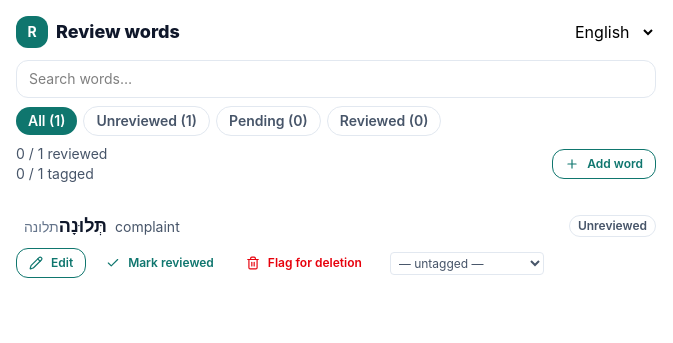
Scenario: AdminDictionaryPage › shows a friendly alert when setTopic fails
This screenshot has width=673, height=343.
Expected: the text "תְּלוּנָה" is shown, [59,215,107,236]
Select "Cardiology" in the dropdown named "topic" at (467,263), box [390,252,544,274]
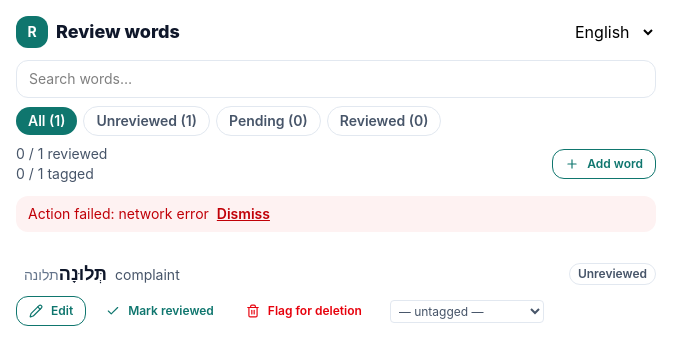
Now the message shows "Action failed", box [28,205,209,222]
